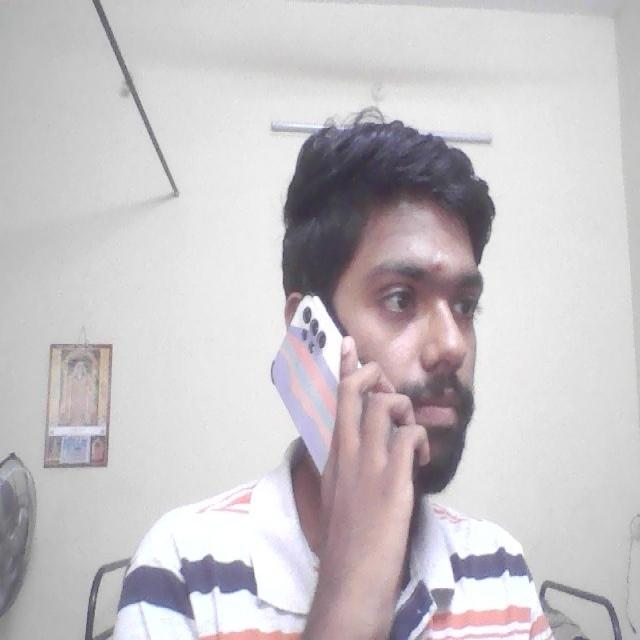Mobile: (265, 289, 373, 483)
